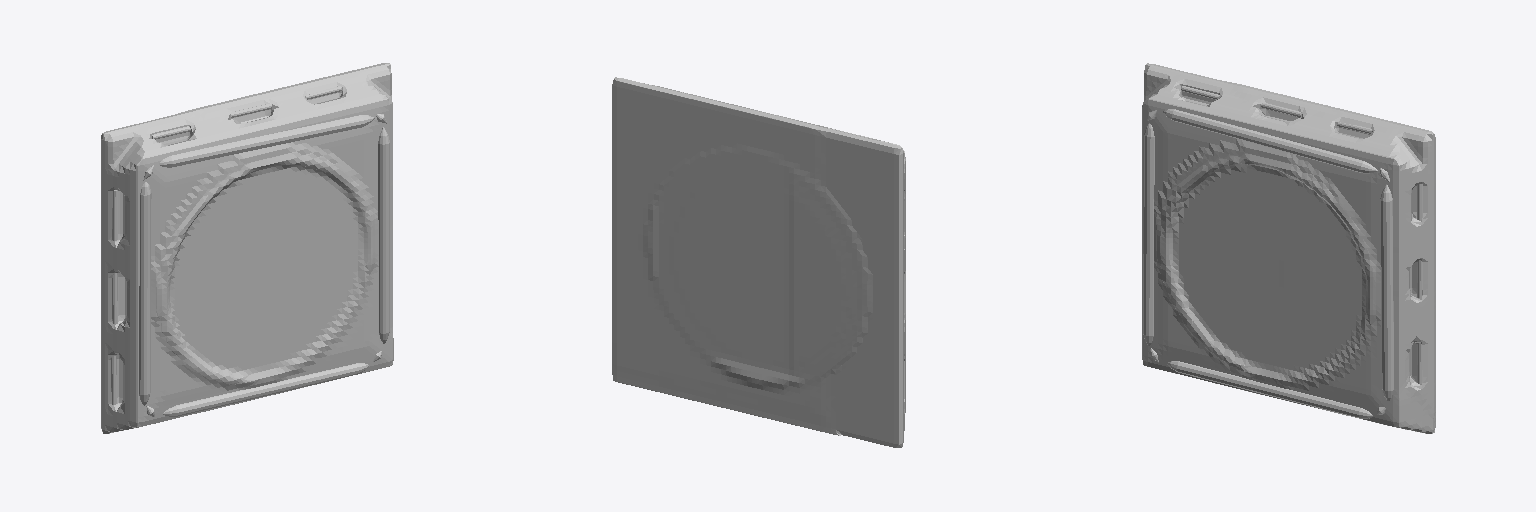
3 renders of one model, left to right at view 1: azimuth 30°, elevation 25°; view 2: azimuth 150°, elevation 25°; view 3: azimuth 330°, elevation 25°, orthographic.
Visible parts, largest first — view 1: Layer 1, Ribbon7, Ribbon10, Ribbon8, Ribbon2; view 2: Layer 1; view 3: Layer 1, Ribbon7, Ribbon8, Ribbon10, Ribbon2.
Boxes of the visible parts, box(x1,y1,x2,y2) form: Layer 1: box(101, 63, 393, 433); Ribbon7: box(159, 115, 374, 167); Ribbon10: box(139, 182, 151, 405); Ribbon8: box(378, 127, 389, 343); Ribbon2: box(163, 363, 368, 416); Layer 1: box(612, 77, 905, 447); Layer 1: box(1142, 63, 1435, 433); Ribbon7: box(1163, 109, 1377, 173); Ribbon8: box(1380, 184, 1393, 400); Ribbon10: box(1143, 123, 1154, 345); Ribbon2: box(1167, 361, 1372, 418).
Bounding box in the file's own units: 21.64 × 21.62 × 3.52.